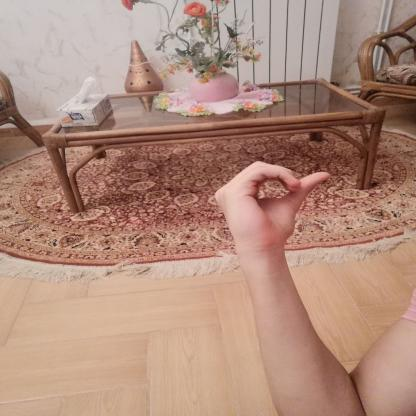WAW: (205, 153, 343, 259)
